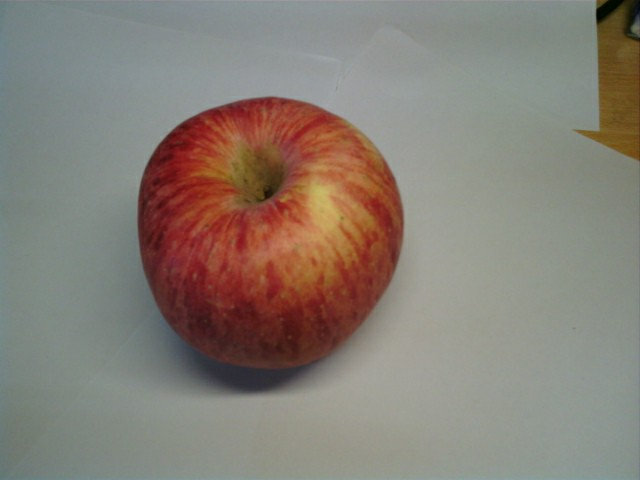normal_apple: (134, 96, 407, 369)
